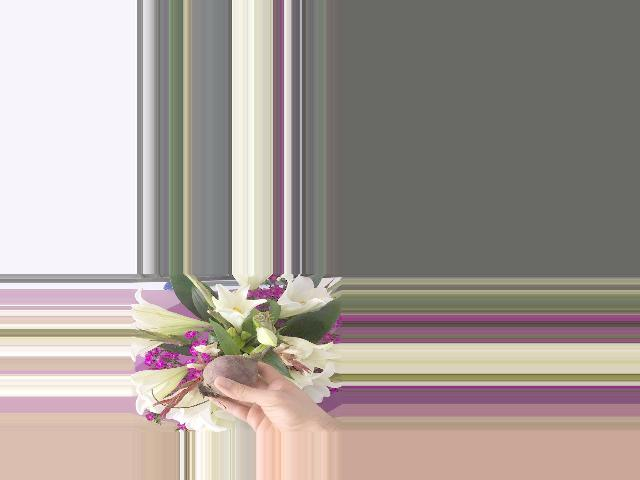beet: (197, 345, 272, 398)
